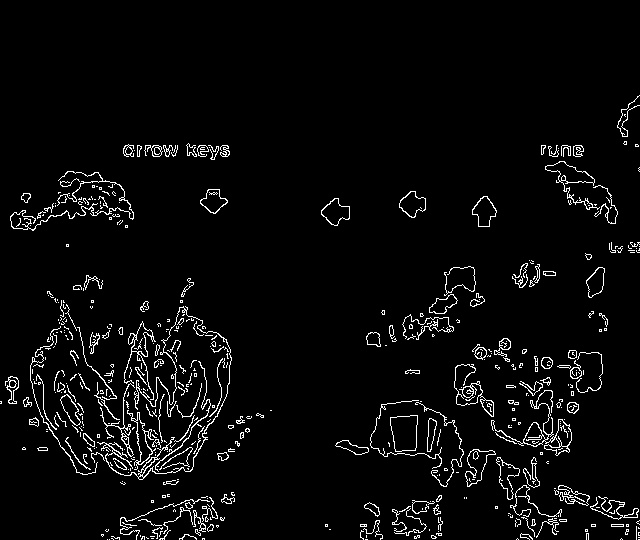down: (192, 180, 232, 227)
left: (313, 191, 357, 236), (388, 187, 429, 225)
up: (466, 190, 505, 235)
